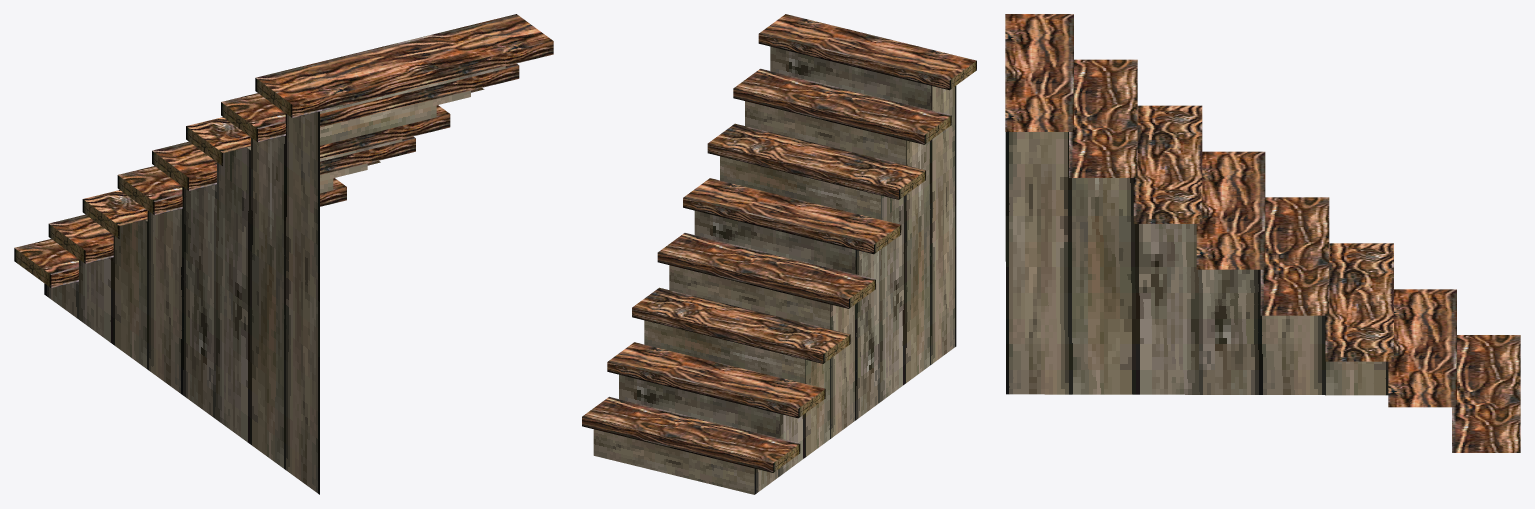
File: LAKETOWN_PUB_PS_PUB_STAIRS17.fbx
3 views of the same model, side by side, from view 1: azimuth 30°, elevation 25°; view 2: azimuth 150°, elevation 25°; view 3: azimuth 270°, elevation 25° (orthographic). The views are drawn at different scales.
Parts seen in each view (by area): view 1: LAKETOWN_PUB_PS_PUB_STAIRS17; view 2: LAKETOWN_PUB_PS_PUB_STAIRS17; view 3: LAKETOWN_PUB_PS_PUB_STAIRS17.
Part boxes in pixels (x1,y1,x2,y2): LAKETOWN_PUB_PS_PUB_STAIRS17: (14, 14, 553, 494); LAKETOWN_PUB_PS_PUB_STAIRS17: (582, 14, 976, 494); LAKETOWN_PUB_PS_PUB_STAIRS17: (1005, 14, 1520, 452).
Size of the model in its own units: 14662 by 21357 by 27031.
3 materials, 3 textured.
